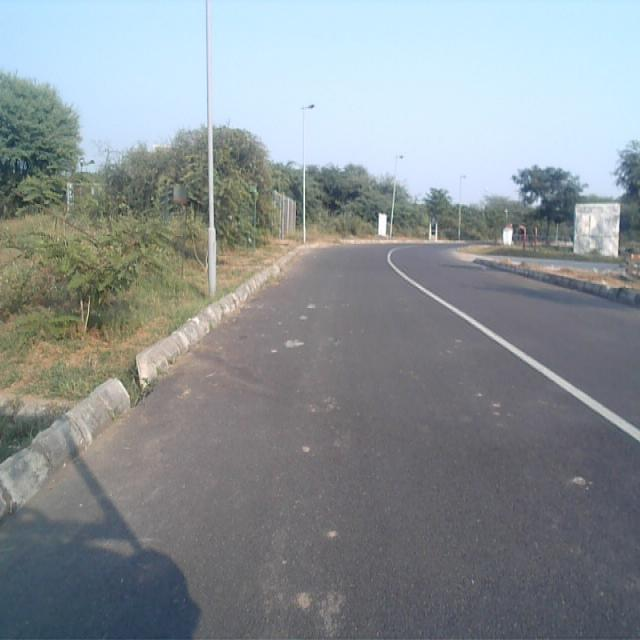lane: (0, 246, 640, 640)
